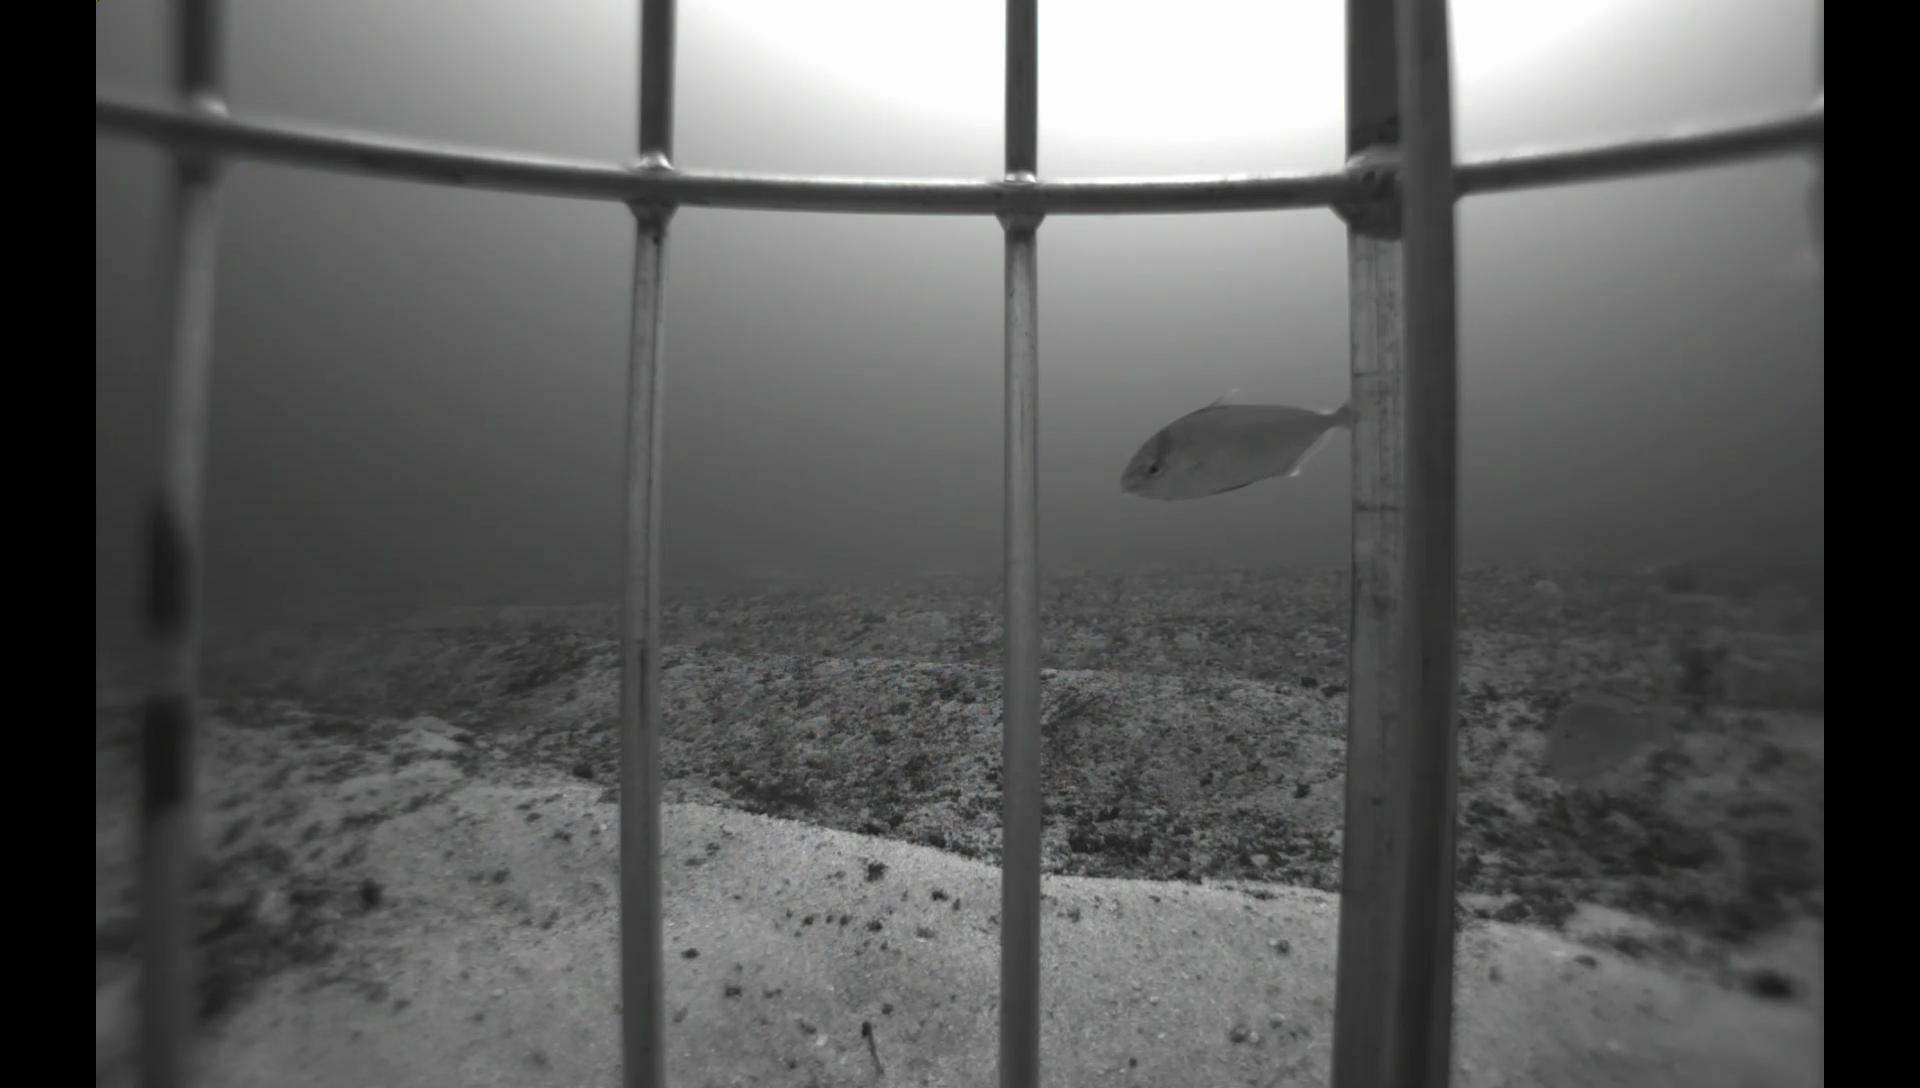CALAMUSPRORIDENS-170210605: (1518, 679, 1706, 791)
RHOMBOPLITESAURORUBENS-170152001: (1793, 170, 1821, 285)
SERIOLAFASCIATA-170113103: (1109, 380, 1353, 510)
